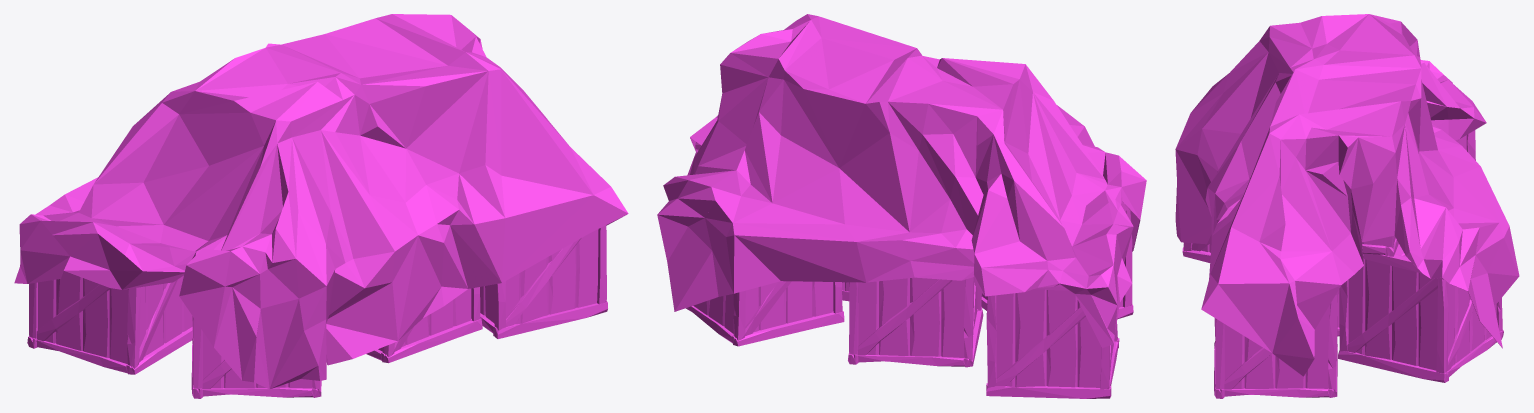
The model's file is SM_Box_Group_Blanket_Medium_Fantasy.fbx.
3 renders of one model, left to right at view 1: azimuth 30°, elevation 25°; view 2: azimuth 150°, elevation 25°; view 3: azimuth 270°, elevation 25°, orthographic. The views are drawn at different scales.
Parts seen in each view (by area): view 1: SM_Box_Group_Blanket_Medium_Fantasy; view 2: SM_Box_Group_Blanket_Medium_Fantasy; view 3: SM_Box_Group_Blanket_Medium_Fantasy.
Part boxes in pixels (x1=…): SM_Box_Group_Blanket_Medium_Fantasy: x1=14, y1=14, x2=628, y2=398; SM_Box_Group_Blanket_Medium_Fantasy: x1=657, y1=14, x2=1146, y2=398; SM_Box_Group_Blanket_Medium_Fantasy: x1=1175, y1=14, x2=1519, y2=398.
Size of the model in its own units: 4.44 by 2.15 by 2.75.
